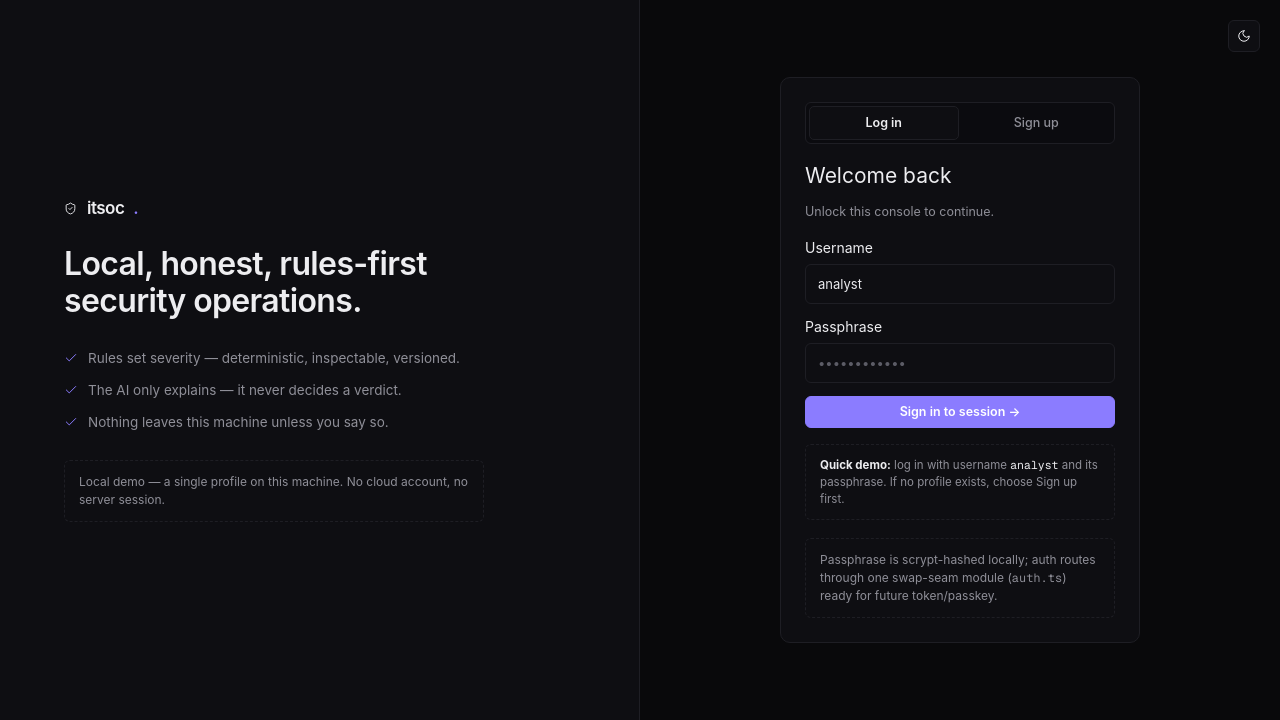
Test case: Auth subsystem & login screen (Phase 6) › displays honest error when login fails
Type "wrongpass" into the password field with placeholder "••••••••••••" at (960, 363), box [805, 343, 1115, 383]
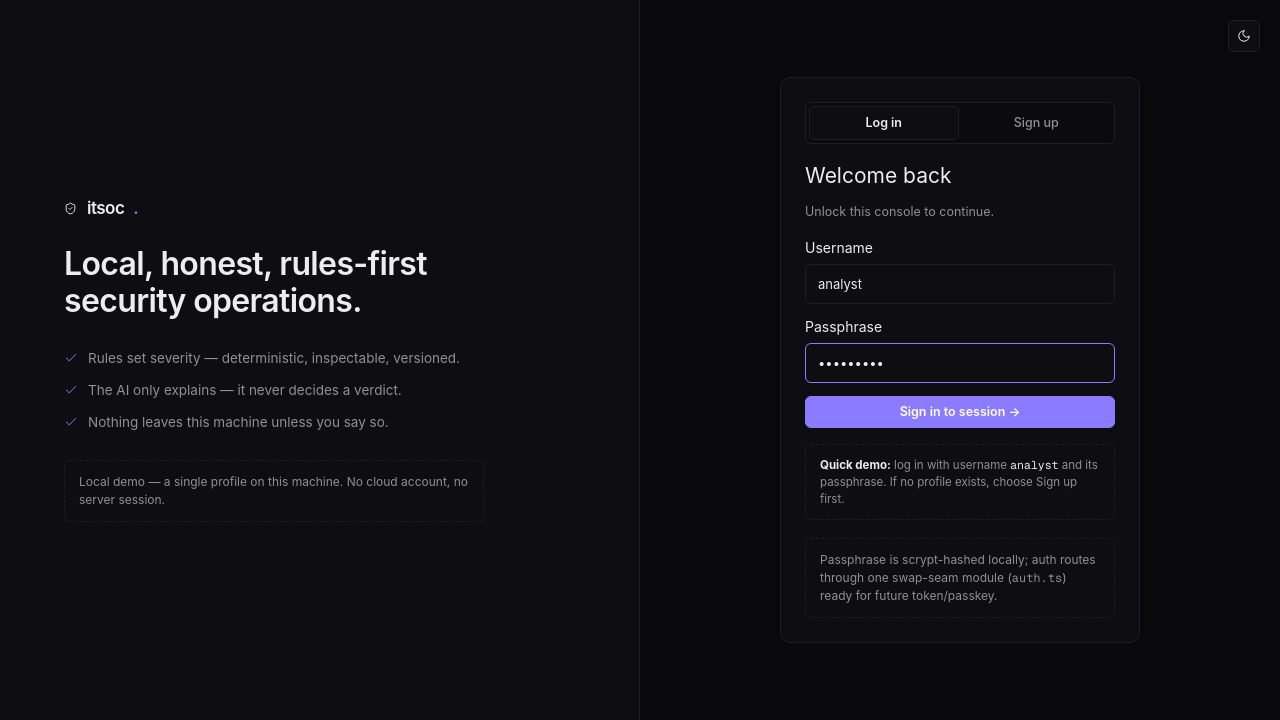
Click the button "Sign in to session →" at (960, 412), box [805, 396, 1115, 428]
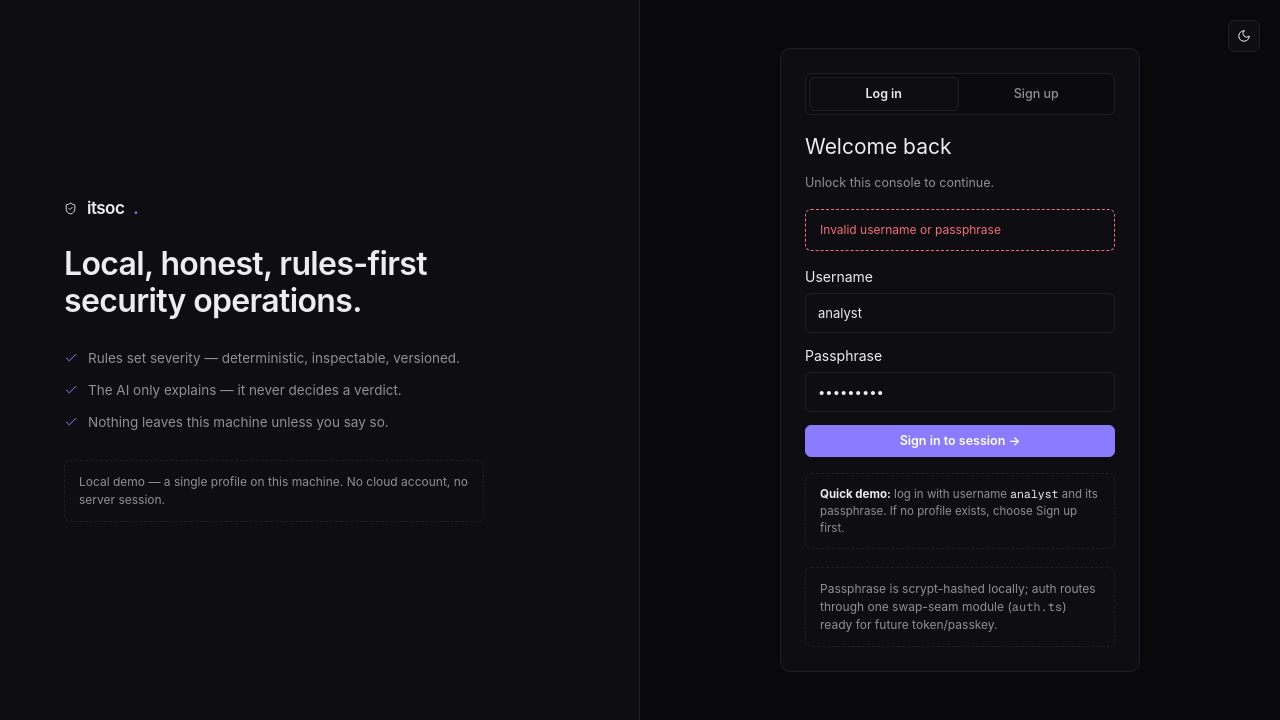
Expected: the text "Invalid username or passphrase" is shown, [805, 209, 1115, 251]
